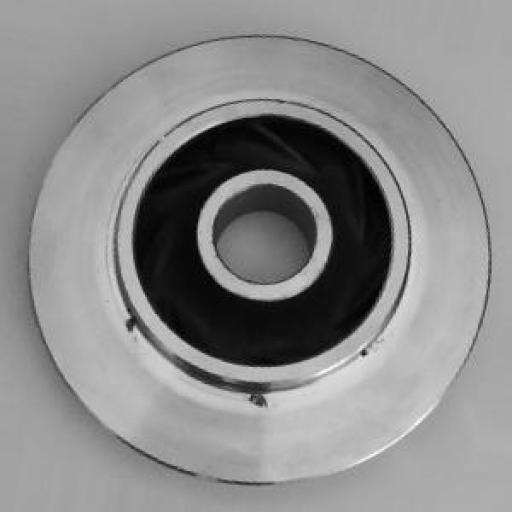defect: (108, 305, 415, 440)
